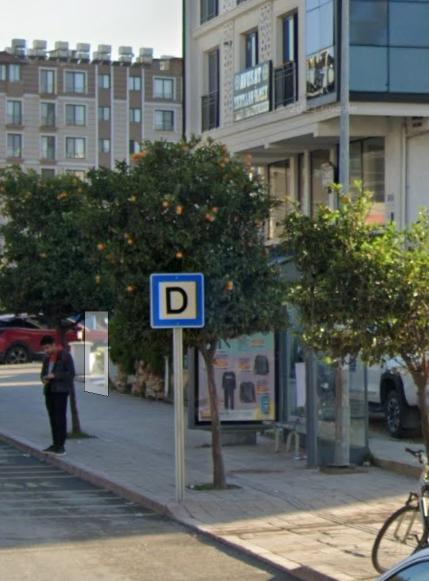station: (152, 275, 202, 327)
